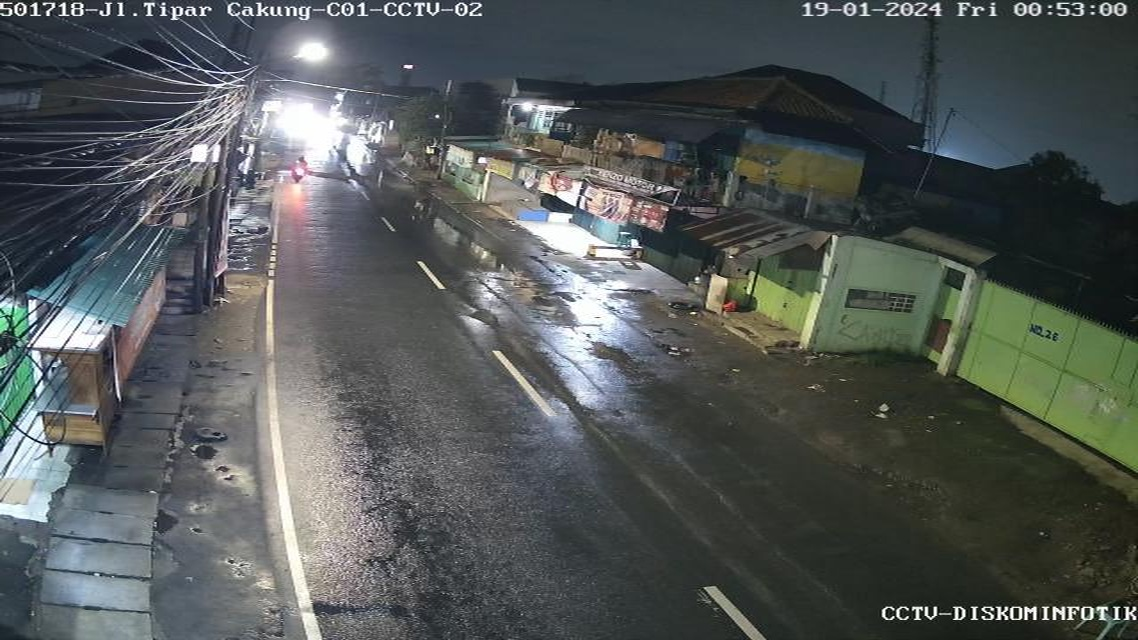Gerobak: (2, 284, 148, 465)
